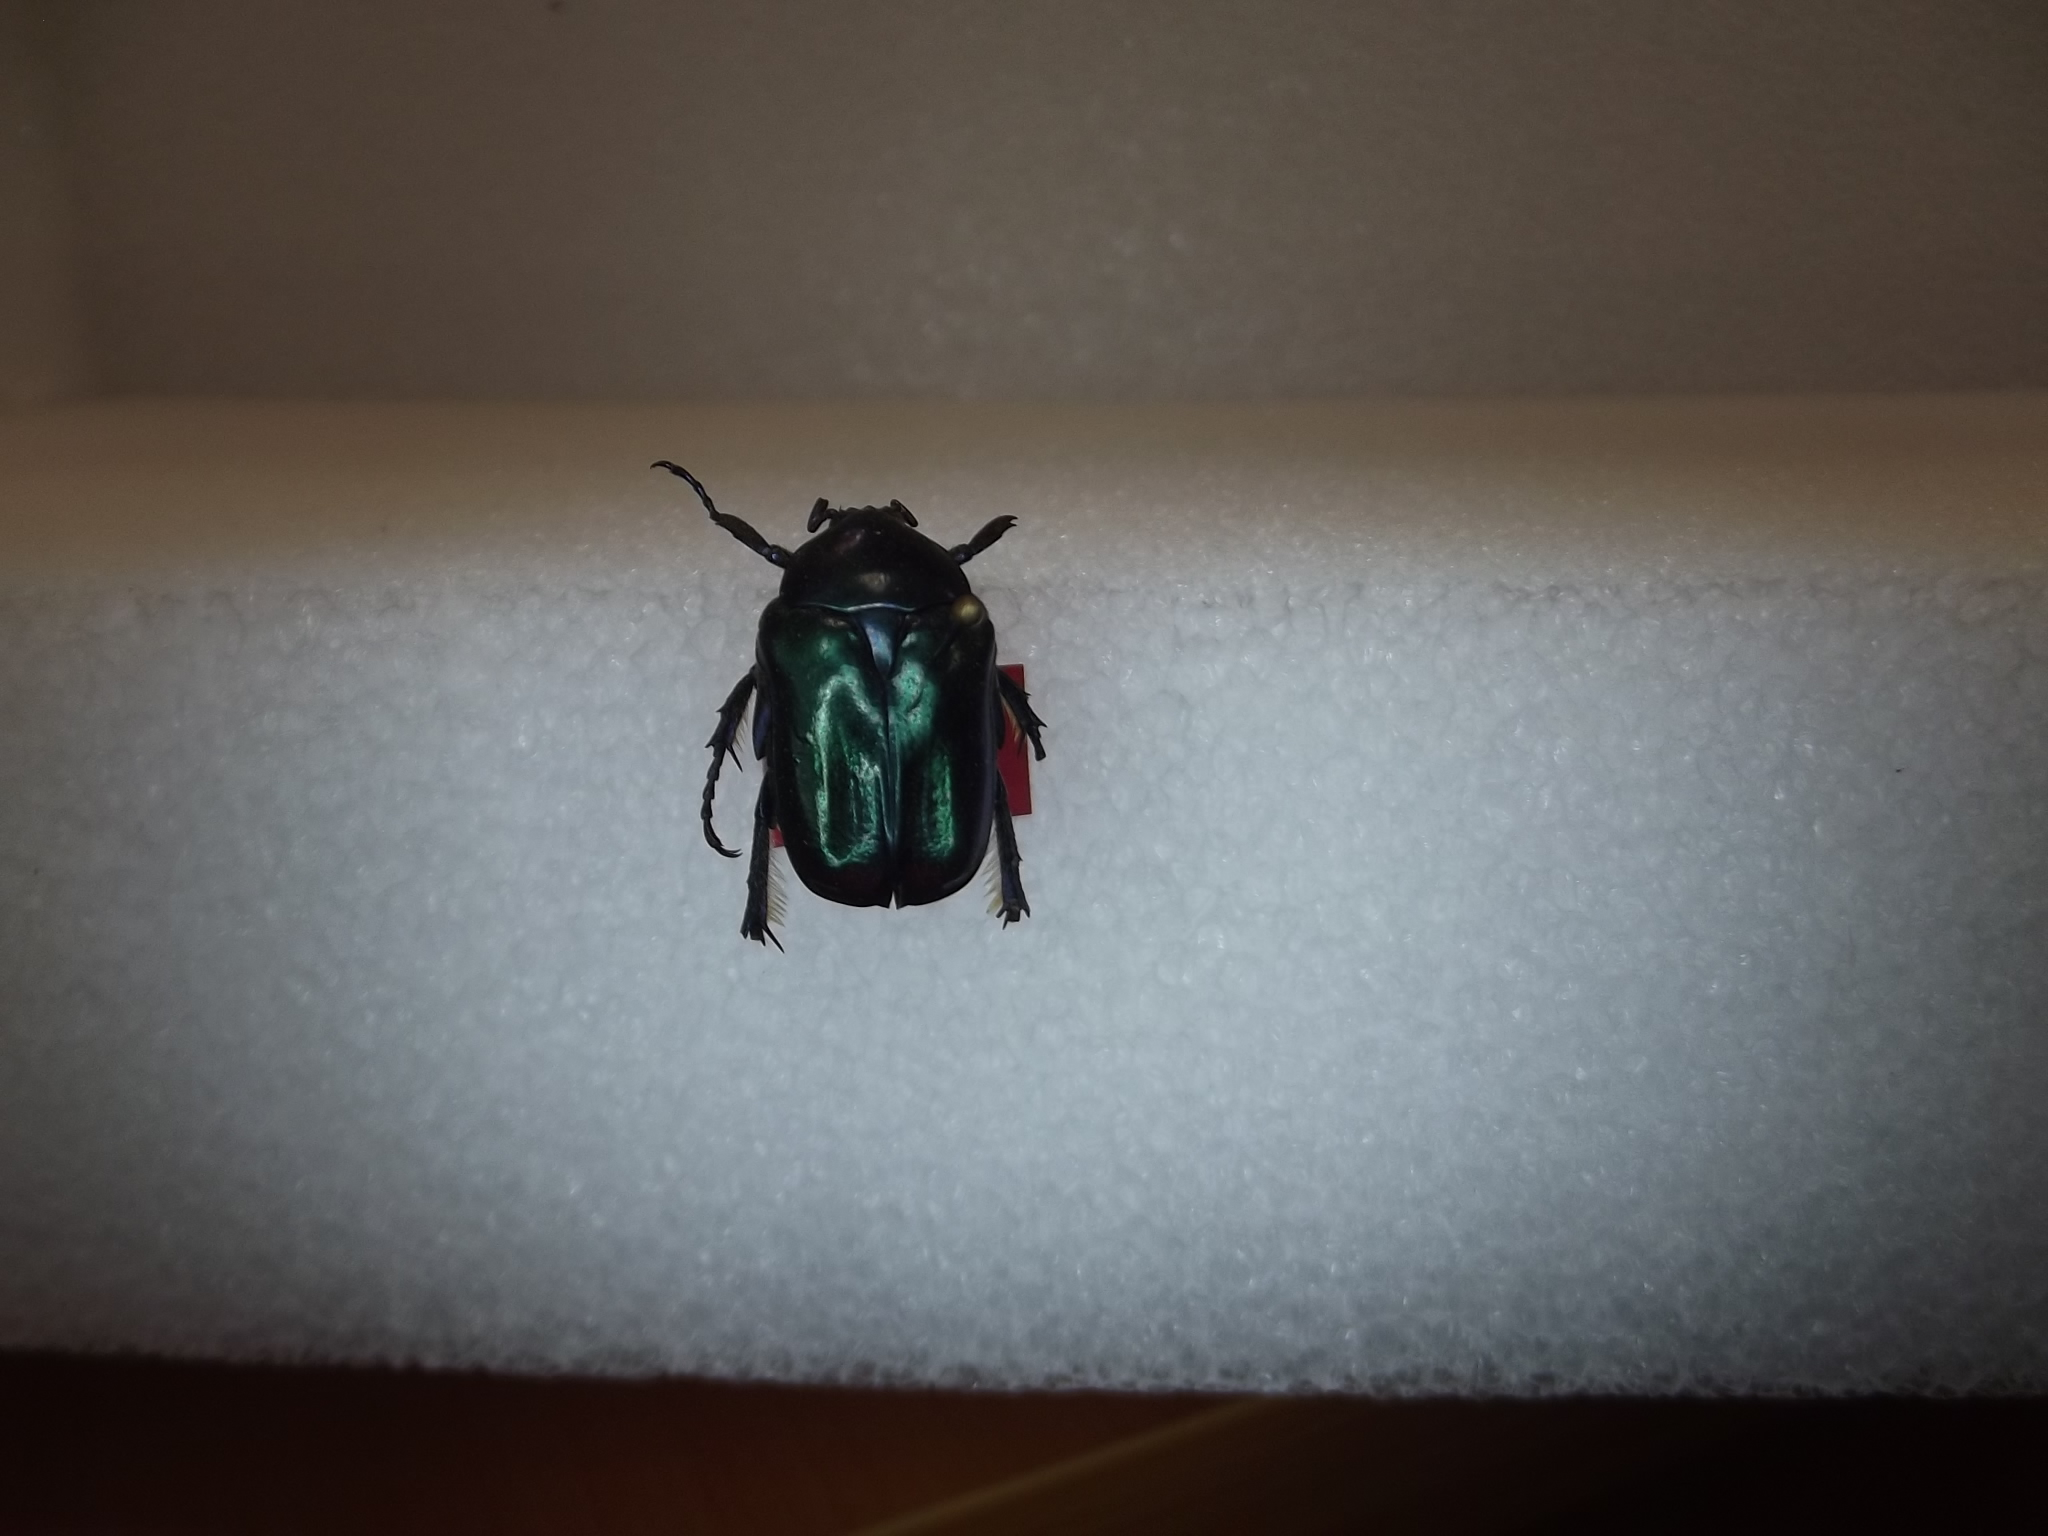Protaetia_besucheti: (624, 432, 1074, 968)
